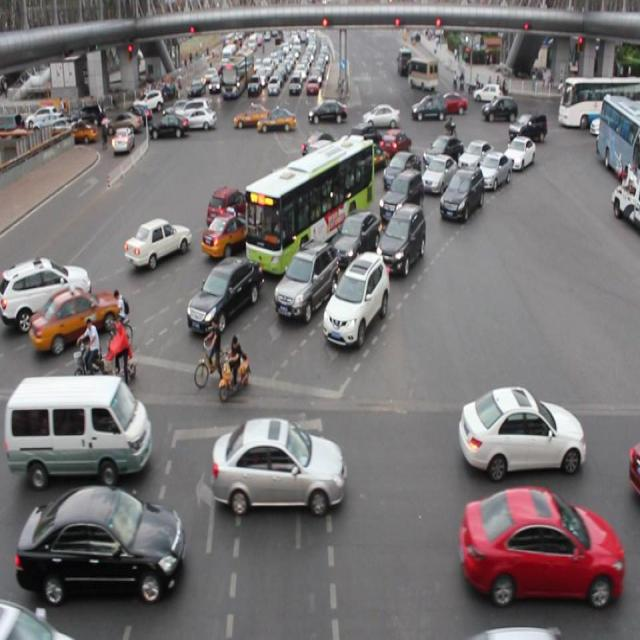car: (459, 485, 622, 602), (18, 483, 185, 596), (210, 414, 344, 510), (457, 386, 583, 476), (1, 259, 89, 326), (324, 251, 387, 344), (30, 286, 116, 350), (188, 260, 261, 334), (274, 242, 339, 320), (125, 217, 191, 267), (378, 204, 425, 272), (202, 208, 264, 254), (332, 211, 381, 268), (440, 165, 483, 222), (378, 167, 422, 221), (259, 165, 305, 206), (207, 187, 251, 228), (312, 163, 358, 201), (278, 182, 318, 220), (457, 138, 493, 178), (383, 150, 420, 188), (422, 136, 462, 171), (508, 110, 546, 146), (420, 156, 454, 194), (476, 151, 509, 190), (352, 139, 387, 174), (347, 123, 382, 158), (301, 130, 333, 163), (379, 127, 410, 160), (504, 136, 533, 171)
truck: (1, 375, 153, 478), (297, 142, 336, 180)
van: (245, 138, 373, 277)
